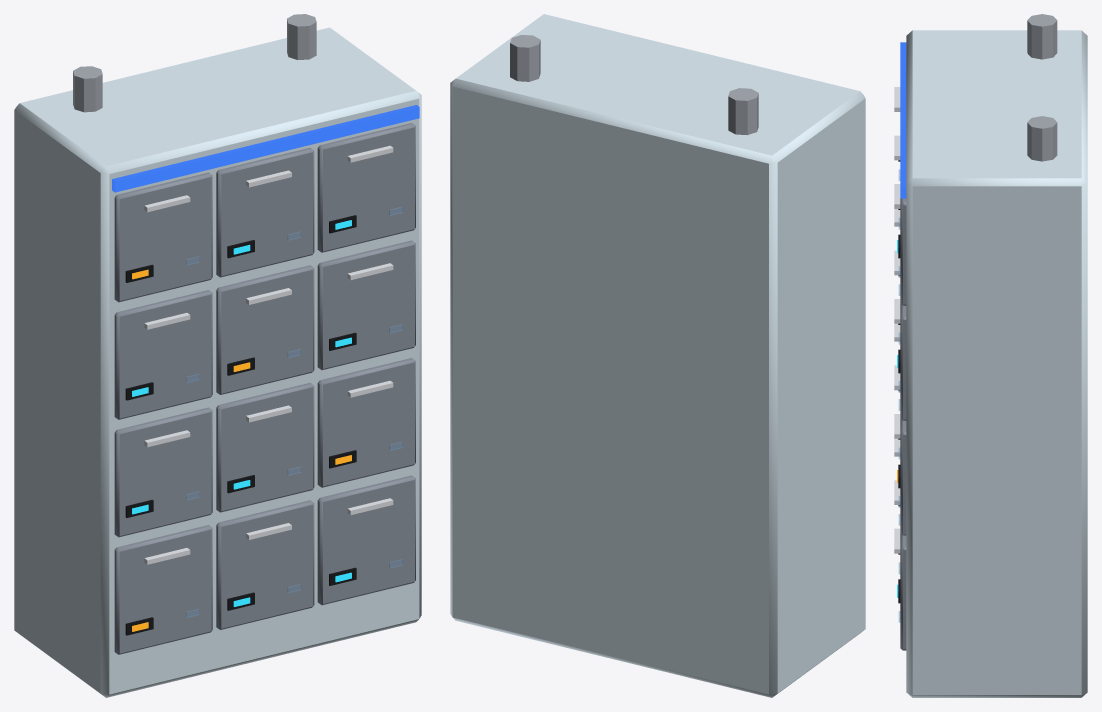
Rendered from storage_cold_storage_locker.glb.
3 views of the same model, side by side, from view 1: azimuth 30°, elevation 25°; view 2: azimuth 150°, elevation 25°; view 3: azimuth 270°, elevation 25° (orthographic). The views are drawn at different scales.
Parts seen in each view (by area): view 1: storage_cold_storage_locker; view 2: storage_cold_storage_locker; view 3: storage_cold_storage_locker.
Part boxes in pixels (left/top/right/bottom): storage_cold_storage_locker: left=14, top=14, right=421, bottom=697; storage_cold_storage_locker: left=450, top=14, right=865, bottom=697; storage_cold_storage_locker: left=894, top=14, right=1087, bottom=697.
Bounding box in the file's own units: 1.2 × 2.02 × 0.64.
